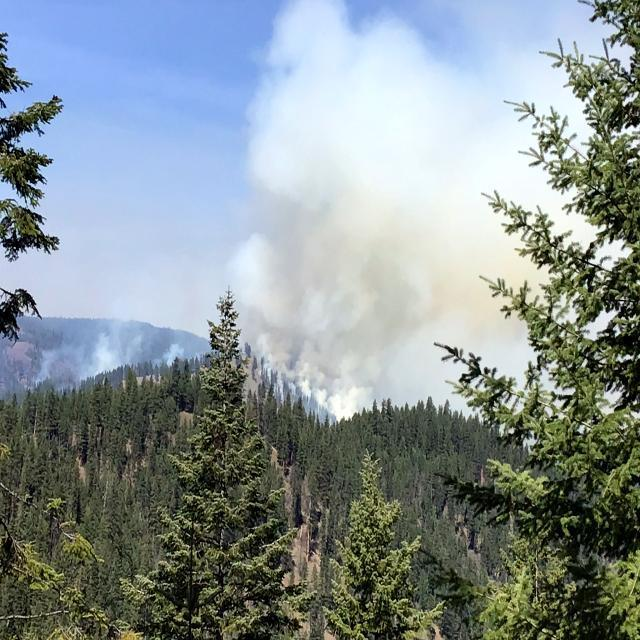Smoke: (96, 7, 534, 421)
